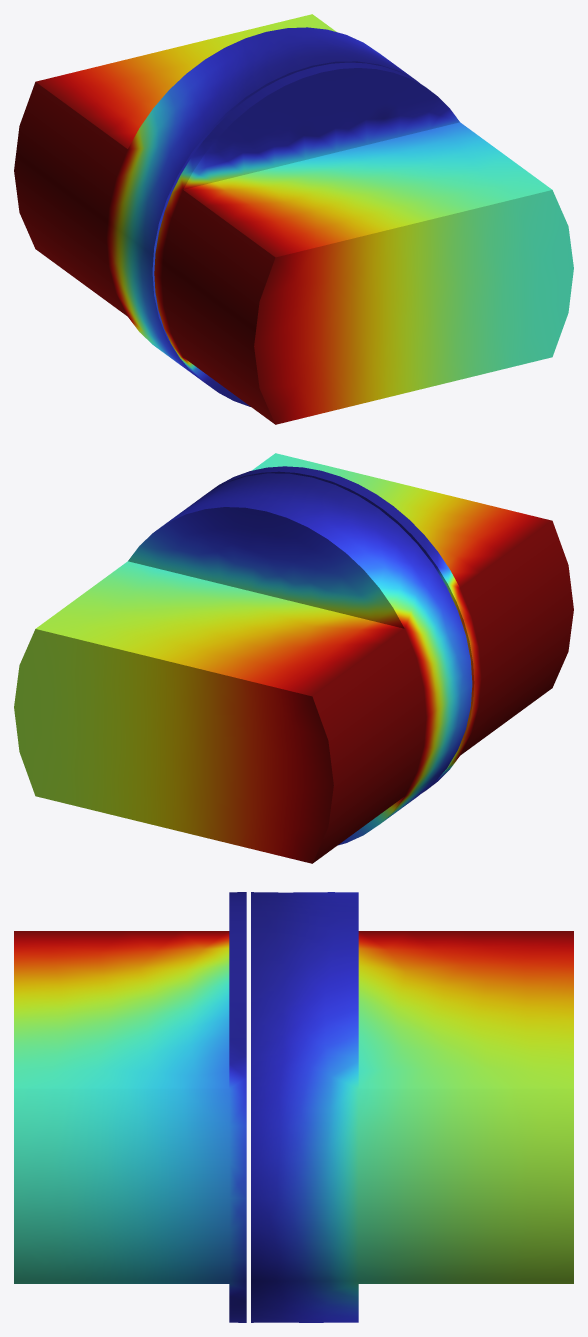
Rendered from PilaH2-O2_mh2-2.70_V-0.7.glb.
The picture shows the model from 3 angles, top to bottom: view 1: azimuth 30°, elevation 25°; view 2: azimuth 150°, elevation 25°; view 3: azimuth 270°, elevation 25°; orthographic projection. The views are drawn at different scales.
Size of the model in its own units: 0.001 by 0.001 by 0.0013.
Materials: 2 (2 with a texture image).
